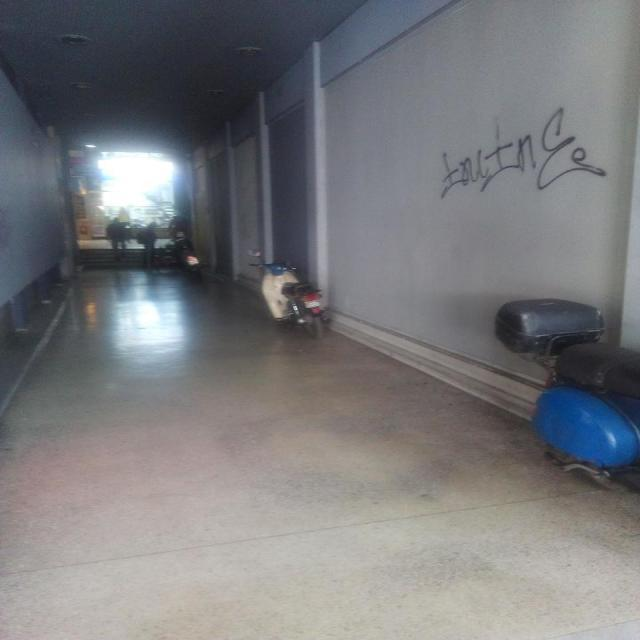nonspitting: (440, 108, 606, 198)
